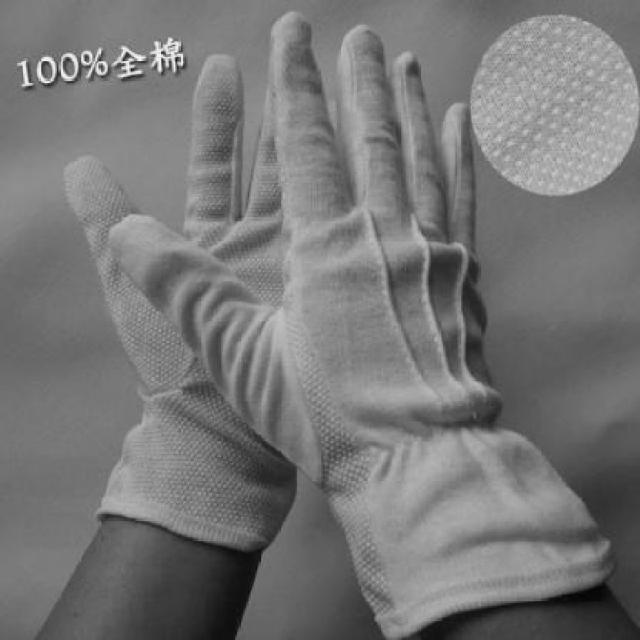hand_glove: (105, 9, 501, 474), (48, 51, 352, 509)
